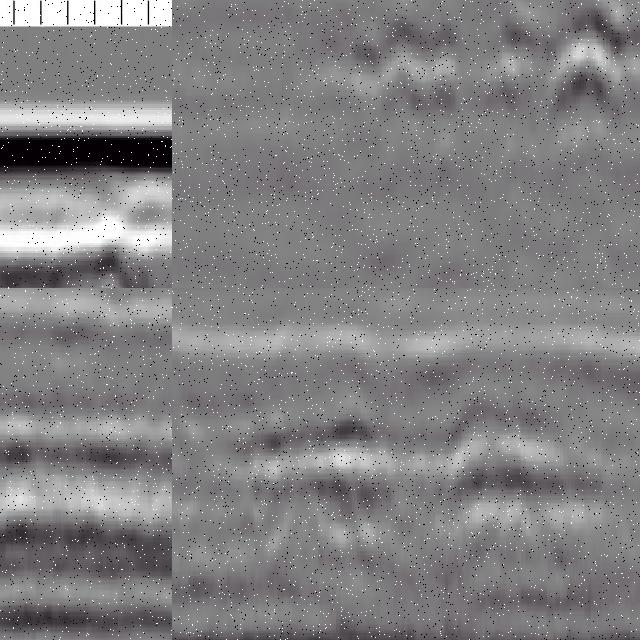loose: (262, 392, 597, 539), (356, 1, 640, 121), (1, 212, 173, 289), (1, 371, 81, 508)
